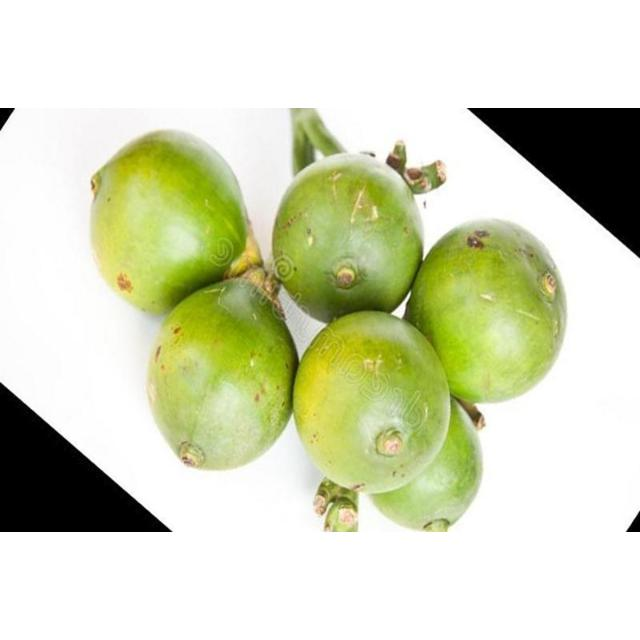good: (290, 310, 486, 532), (88, 130, 254, 318), (409, 219, 566, 407), (148, 280, 298, 474), (271, 154, 426, 326)
